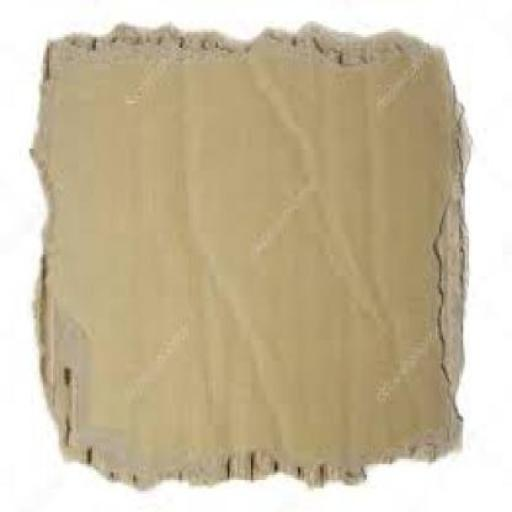cardboard: (28, 22, 470, 486)
